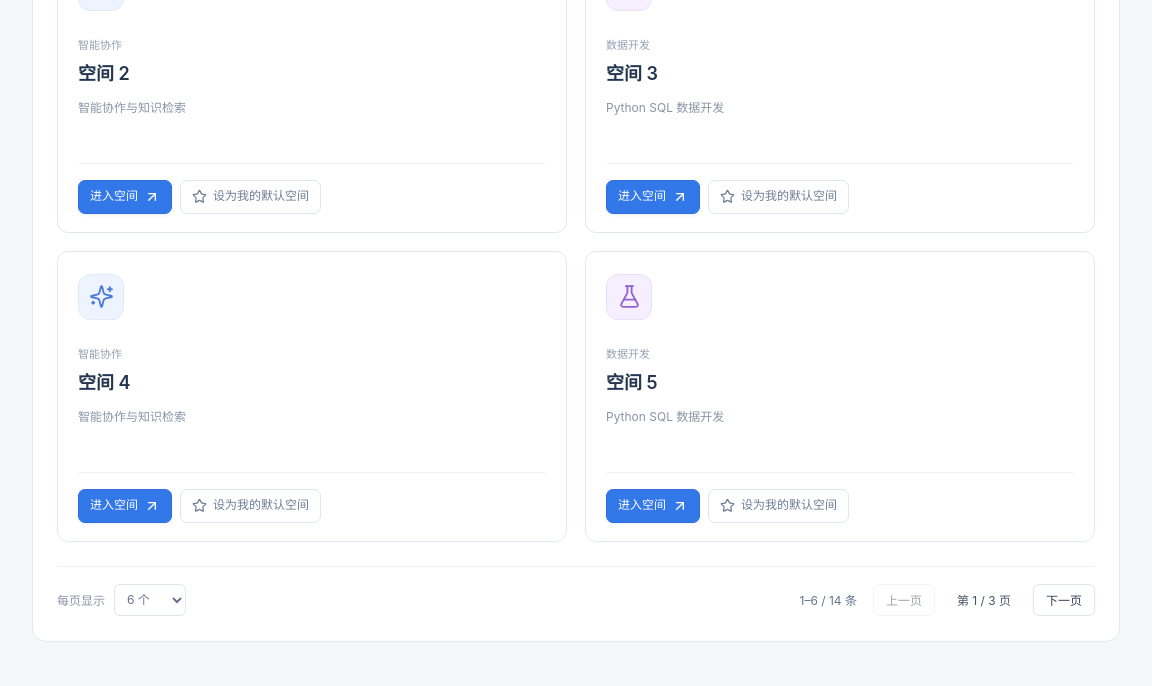
Scenario: workspace directory › paginates authorized spaces with the correct last page and boundaries
(page scrolled)
Expected: the button "上一页" is disabled, [873, 584, 935, 616]
Click the button "下一页" at (1064, 600), box [1033, 584, 1095, 616]
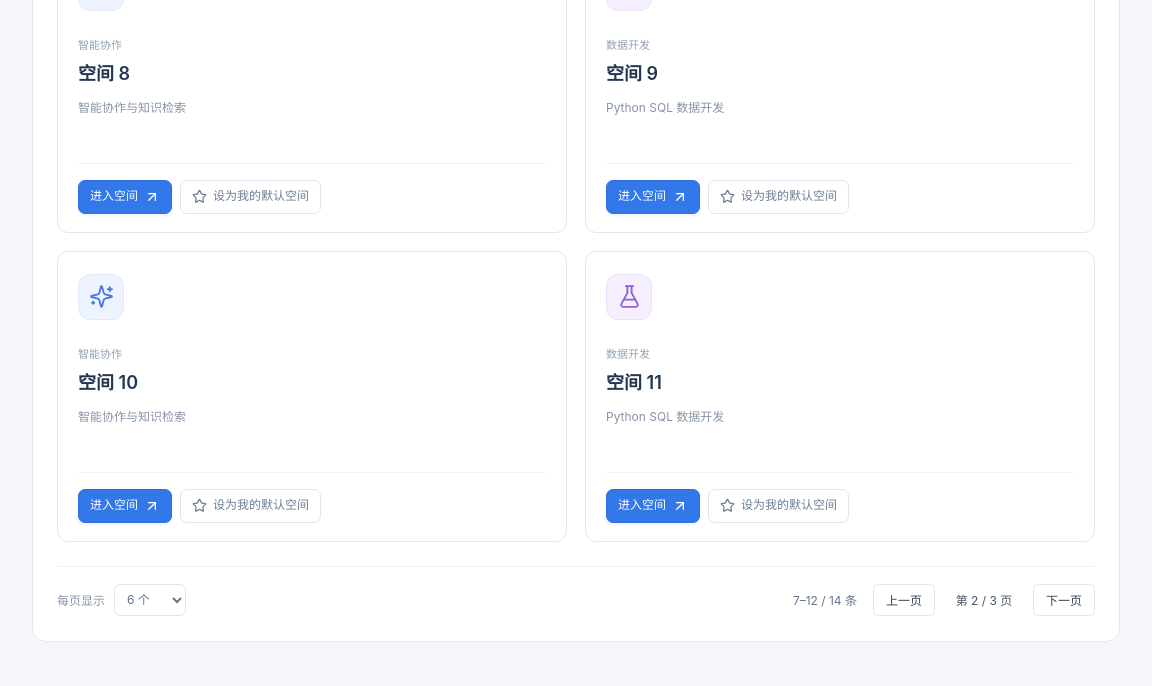
Click the button "下一页" at (1064, 600), box [1033, 584, 1095, 616]
(page scrolled)
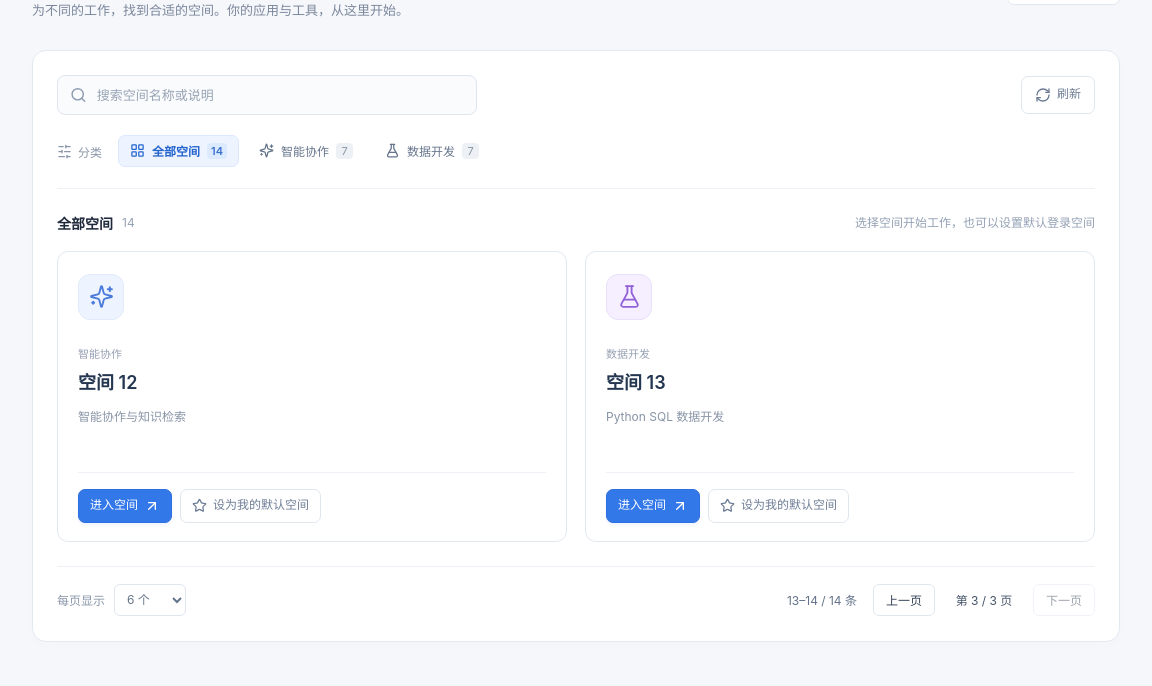
Expected: the text "13–14 / 14 条" is shown, [787, 591, 857, 608]
Expected: the button "下一页" is disabled, [1033, 584, 1095, 616]
